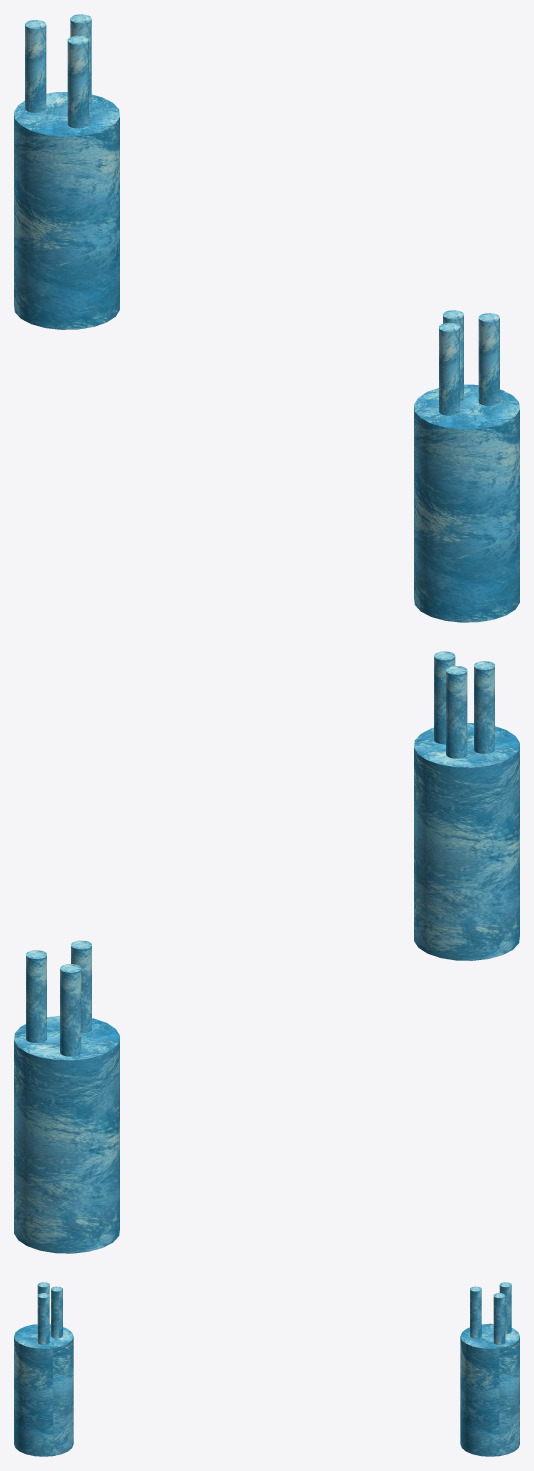
Rendered from encubadora_a.obj.
3 renders of one model, top to bottom at view 1: azimuth 30°, elevation 25°; view 2: azimuth 150°, elevation 25°; view 3: azimuth 270°, elevation 25°, orthographic. The views are drawn at different scales.
Parts seen in each view (by area): view 1: pasted__polySurface16 pasted__pCylinder12 group55, polySurface16 pCylinder12, pCylinder15, group55 pasted__pCylinder14, pCylinder13, group55 pasted__pCylinder13, pCylinder14; view 2: polySurface16 pCylinder12, pasted__polySurface16 pasted__pCylinder12 group55, pCylinder13, group55 pasted__pCylinder15, pCylinder14, group55 pasted__pCylinder13, pCylinder15, group55 pasted__pCylinder14; view 3: pasted__polySurface16 pasted__pCylinder12 group55, polySurface16 pCylinder12, pCylinder14, group55 pasted__pCylinder14, pCylinder15, group55 pasted__pCylinder15, pCylinder13.
Part boxes in pixels (box(x1,y1,x2,y2)): pasted__polySurface16 pasted__pCylinder12 group55: box(414, 384, 519, 622); polySurface16 pCylinder12: box(14, 92, 119, 329); pCylinder15: box(67, 35, 88, 128); group55 pasted__pCylinder14: box(478, 313, 499, 405); pCylinder13: box(25, 20, 46, 112); group55 pasted__pCylinder13: box(439, 323, 459, 415); pCylinder14: box(70, 14, 91, 105); polySurface16 pCylinder12: box(14, 1015, 119, 1253); pasted__polySurface16 pasted__pCylinder12 group55: box(414, 723, 519, 960); pCylinder13: box(60, 964, 81, 1056); group55 pasted__pCylinder15: box(446, 666, 467, 758); pCylinder14: box(26, 950, 46, 1042); group55 pasted__pCylinder13: box(474, 661, 494, 753); pCylinder15: box(71, 940, 91, 1033); group55 pasted__pCylinder14: box(434, 651, 455, 744); pasted__polySurface16 pasted__pCylinder12 group55: box(14, 1324, 73, 1456); polySurface16 pCylinder12: box(460, 1323, 519, 1456); pCylinder14: box(493, 1293, 505, 1344); group55 pasted__pCylinder14: box(37, 1293, 49, 1344); pCylinder15: box(470, 1286, 481, 1338); group55 pasted__pCylinder15: box(51, 1286, 62, 1338); pCylinder13: box(499, 1282, 511, 1333).
Bounding box in the file's own units: 2 × 5.74 × 17.
Materials: 8 (8 with a texture image).
